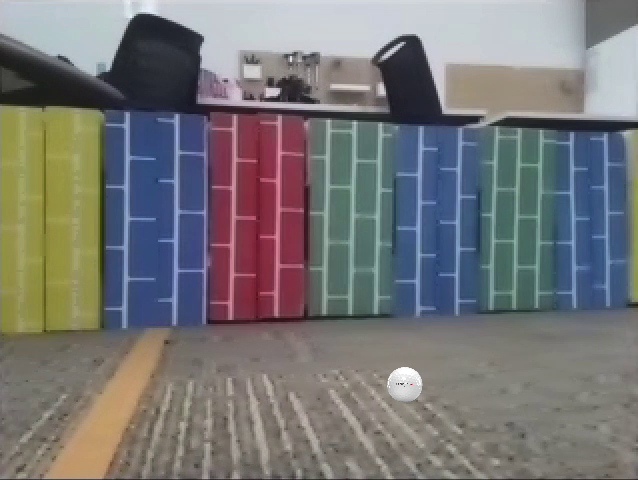pen: (342, 262, 364, 409)
